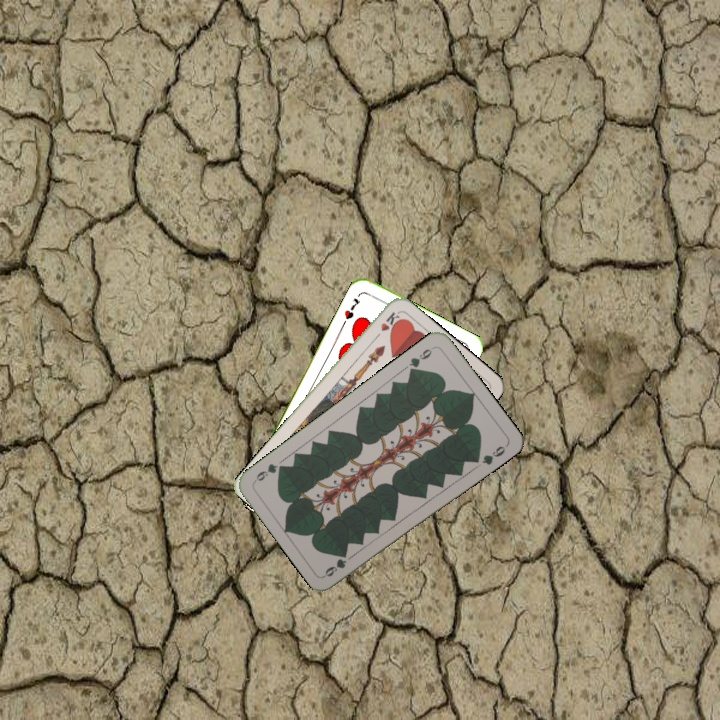G9: (405, 343, 436, 376), (321, 555, 349, 579)
H7: (340, 294, 363, 322)
HK: (370, 308, 402, 343)
